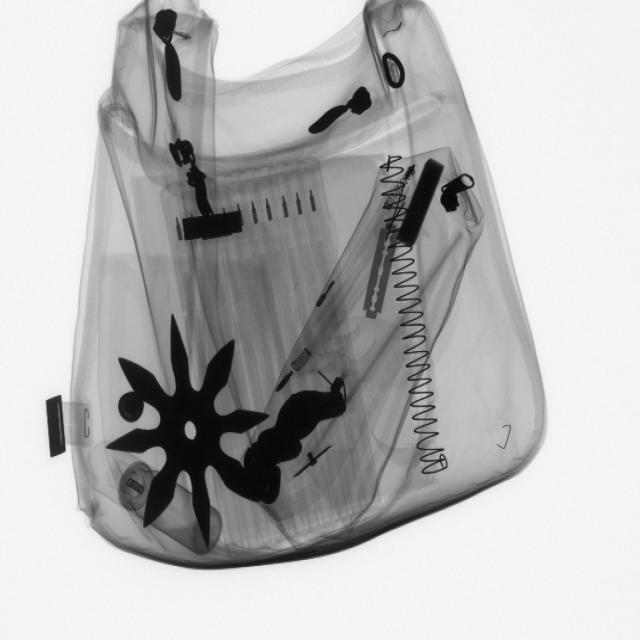BLADE: (360, 218, 402, 323)
SHURIKEN: (103, 311, 274, 549)
